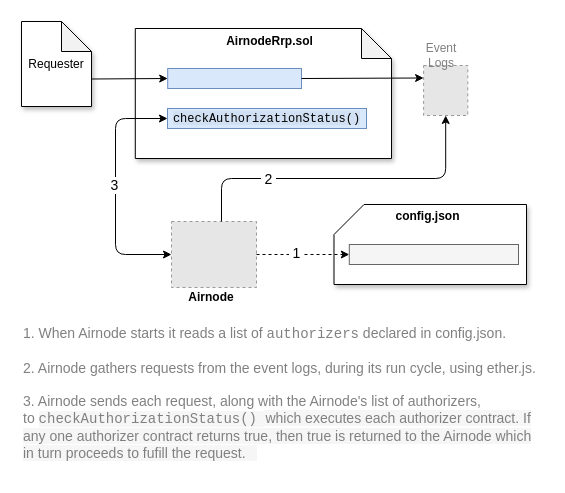
This 565x493 diagram has some shape labels left out. Grey dashed boxes stand in for pictures. The centre of each missing label's shape, as x and y in pixels:
"chains[n].authorizers" goes at point 433,254.
"makeFullRequest()" goes at point 234,78.
